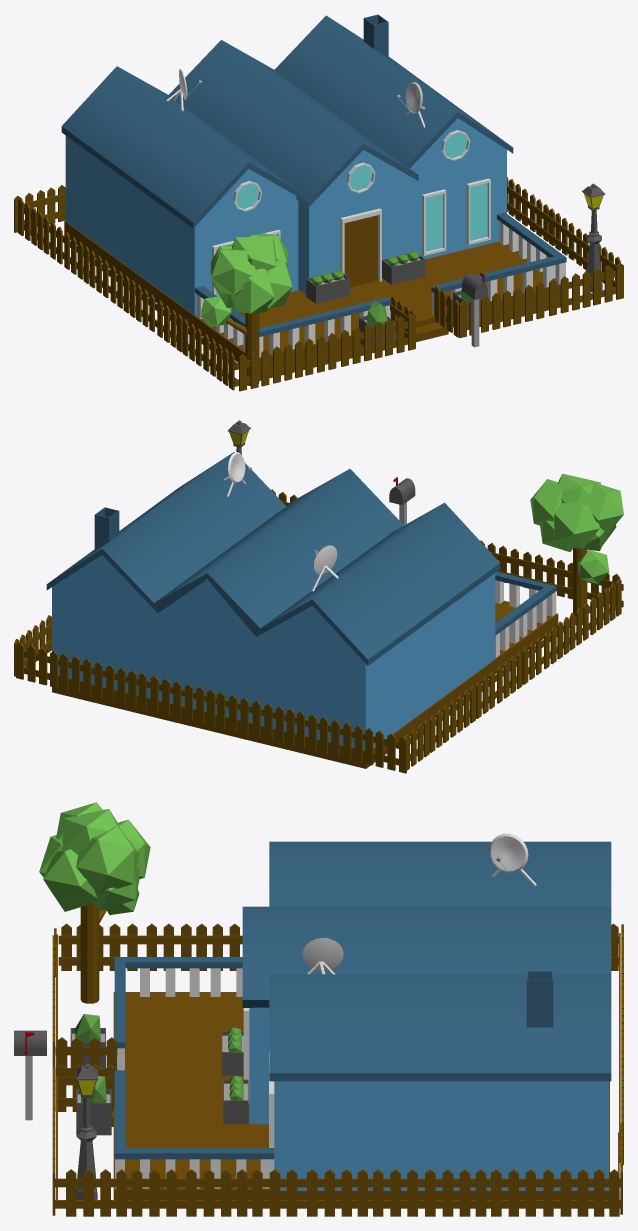
3 renders of one model, top to bottom at view 1: azimuth 30°, elevation 25°; view 2: azimuth 150°, elevation 25°; view 3: azimuth 270°, elevation 25°, orthographic. The views are drawn at different scales.
Visible parts, largest first — view 1: cit1_pCube16; view 2: cit1_pCube16; view 3: cit1_pCube16.
Part boxes in pixels (box(x1,y1,x2,y2)): cit1_pCube16: box(14, 14, 623, 391); cit1_pCube16: box(14, 420, 623, 773); cit1_pCube16: box(14, 802, 623, 1216).
Bounding box in the file's own units: 25.71 × 10.67 × 26.07.
